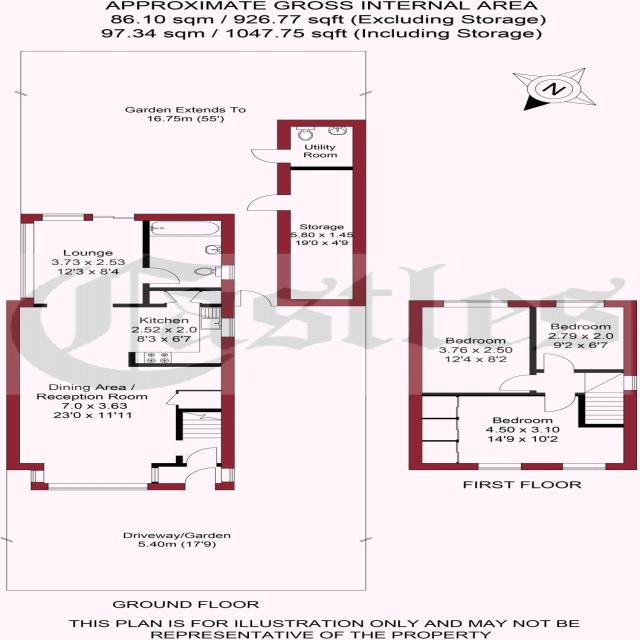DOOR: (245, 193, 292, 211), (183, 467, 217, 491), (496, 374, 539, 392), (542, 352, 577, 374), (542, 391, 577, 413), (185, 447, 219, 468), (249, 148, 292, 164), (142, 267, 182, 284), (238, 289, 273, 307)
ROOM: (4, 213, 236, 491), (406, 392, 638, 471), (407, 300, 538, 396), (529, 300, 639, 373)
SLIDING DOOR: (93, 214, 135, 220)
WINDOW: (19, 222, 36, 299), (46, 482, 150, 491), (441, 299, 509, 308), (560, 462, 609, 471), (476, 462, 523, 471), (554, 300, 606, 308), (40, 213, 85, 222), (220, 317, 236, 338), (621, 375, 639, 391), (220, 264, 236, 280), (220, 468, 236, 483), (29, 470, 45, 483), (150, 467, 160, 483)
